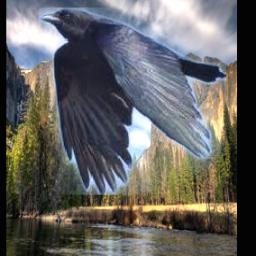Crow: (39, 8, 226, 195)
